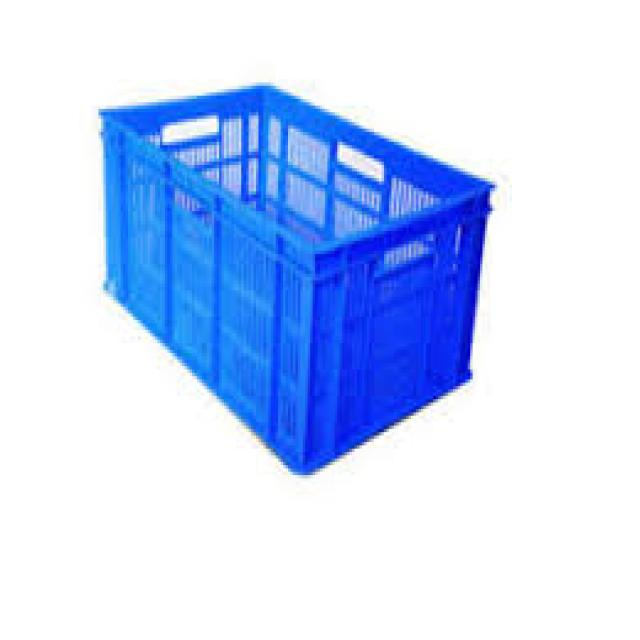basket: (65, 67, 503, 491)
